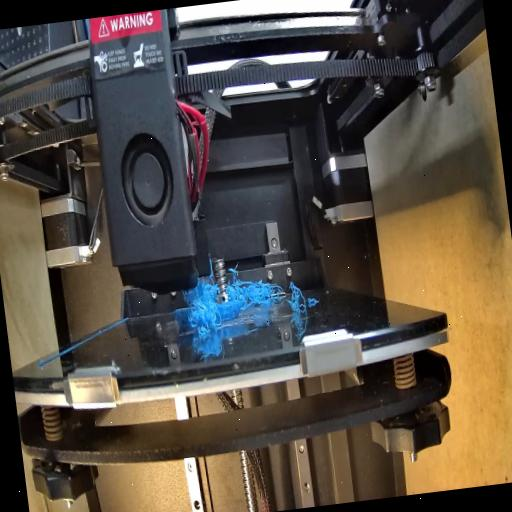spaghetti: (224, 271, 286, 311), (188, 278, 224, 342), (286, 279, 306, 314)
